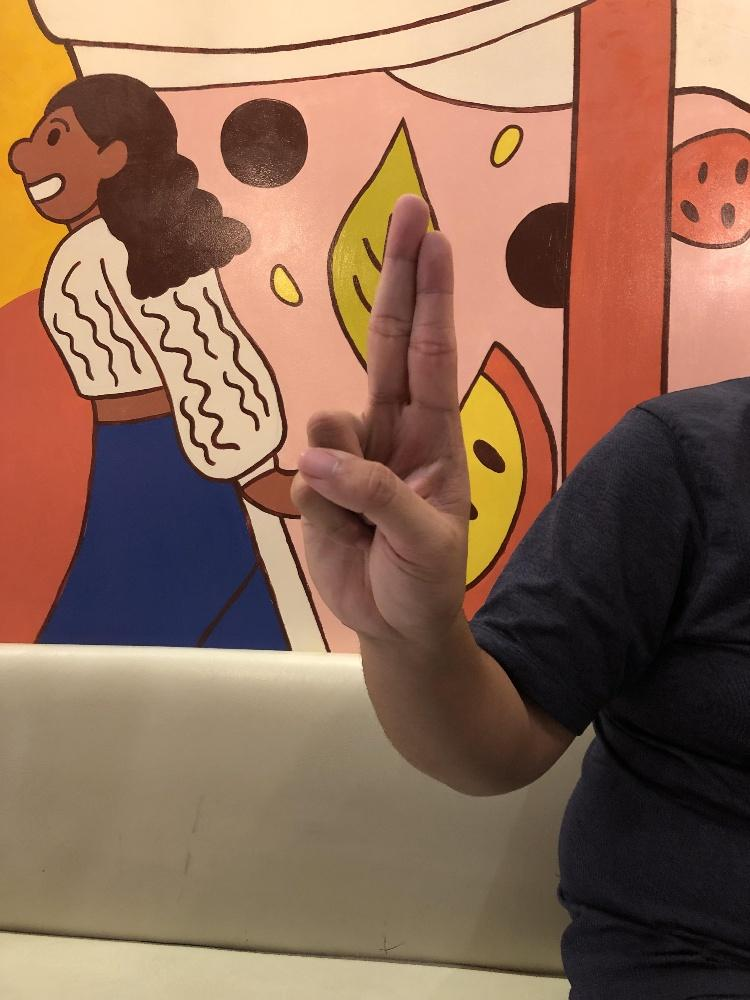u: (296, 192, 472, 636)
